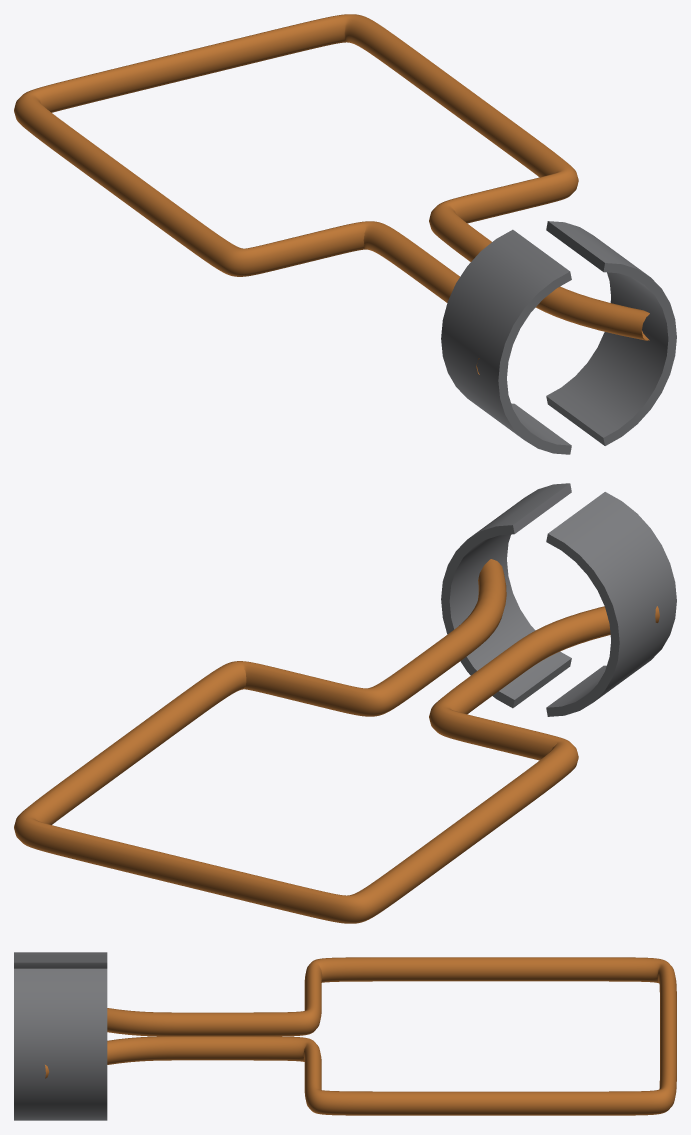
File: DCcoil10.glb
3 renders of one model, top to bottom at view 1: azimuth 30°, elevation 25°; view 2: azimuth 150°, elevation 25°; view 3: azimuth 270°, elevation 25°, orthographic. The views are drawn at different scales.
Parts seen in each view (by area): view 1: NURBSパス.006, 円柱.003, 円柱.001; view 2: NURBSパス.006, 円柱.003, 円柱.001; view 3: NURBSパス.006, 円柱.001, 円柱.003.
Boxes of the visible parts, x1,y1,x2,y2 form: NURBSパス.006: [14, 14, 649, 374]; 円柱.003: [441, 229, 571, 454]; 円柱.001: [546, 221, 676, 445]; NURBSパス.006: [14, 559, 659, 923]; 円柱.003: [546, 492, 676, 716]; 円柱.001: [441, 483, 571, 708]; NURBSパス.006: [45, 957, 676, 1115]; 円柱.001: [14, 968, 107, 1120]; 円柱.003: [14, 952, 107, 968].
Size of the model in its own units: 3.66 by 1.77 by 7.09.
